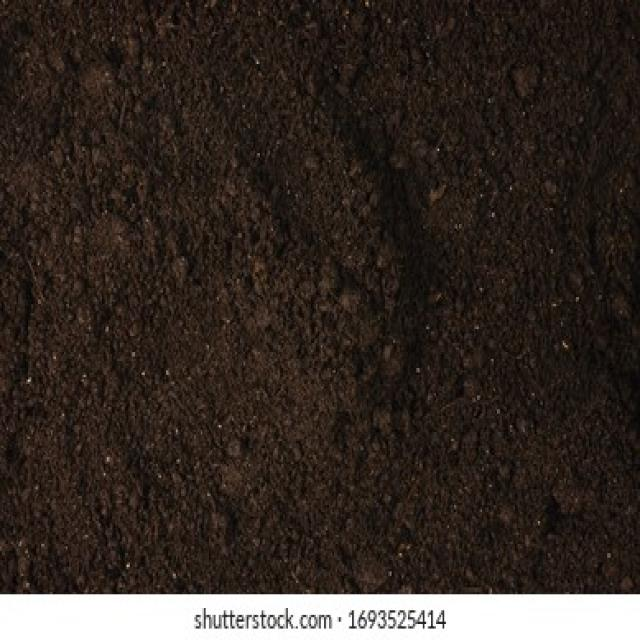Black Soil: (51, 72, 611, 510)
